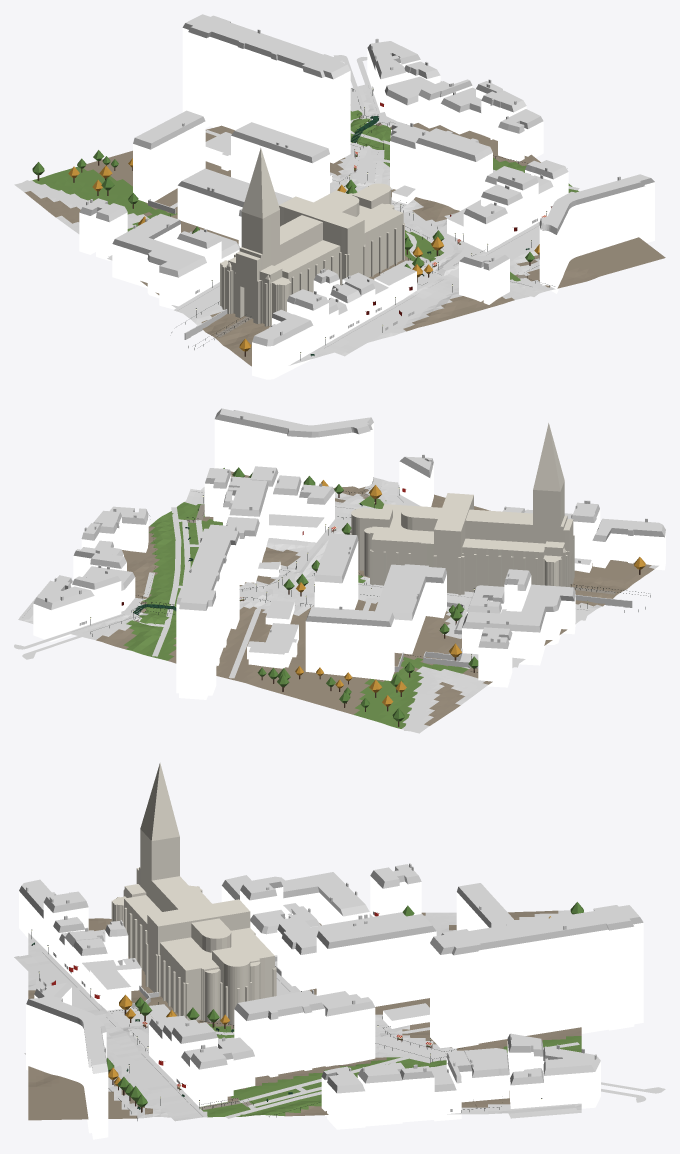
Rendered from zone_J3.glb.
3 renders of one model, top to bottom at view 1: azimuth 30°, elevation 25°; view 2: azimuth 150°, elevation 25°; view 3: azimuth 270°, elevation 25°, orthographic. The views are drawn at different scales.
Visible parts, largest first — view 1: zone_J3_batiments, zone_J3_terrain, zone_J3_sol_NOCOL, zone_J3_decor_NOCOL; view 2: zone_J3_batiments, zone_J3_terrain, zone_J3_sol_NOCOL, zone_J3_decor_NOCOL; view 3: zone_J3_batiments, zone_J3_terrain, zone_J3_sol_NOCOL, zone_J3_decor_NOCOL.
Part boxes in pixels (x1,y1,x2,y2): zone_J3_batiments: (79, 14, 654, 379); zone_J3_terrain: (14, 84, 665, 366); zone_J3_sol_NOCOL: (21, 55, 579, 356); zone_J3_decor_NOCOL: (32, 88, 554, 360); zone_J3_batiments: (33, 408, 665, 699); zone_J3_terrain: (18, 471, 658, 733); zone_J3_sol_NOCOL: (14, 481, 615, 731); zone_J3_decor_NOCOL: (90, 467, 650, 726); zone_J3_batiments: (19, 762, 643, 1139); zone_J3_terrain: (28, 910, 581, 1120); zone_J3_sol_NOCOL: (14, 912, 665, 1121); zone_J3_decor_NOCOL: (31, 902, 583, 1120).
Size of what is drawn, in the model's own units: 227 by 82.23 by 251.
